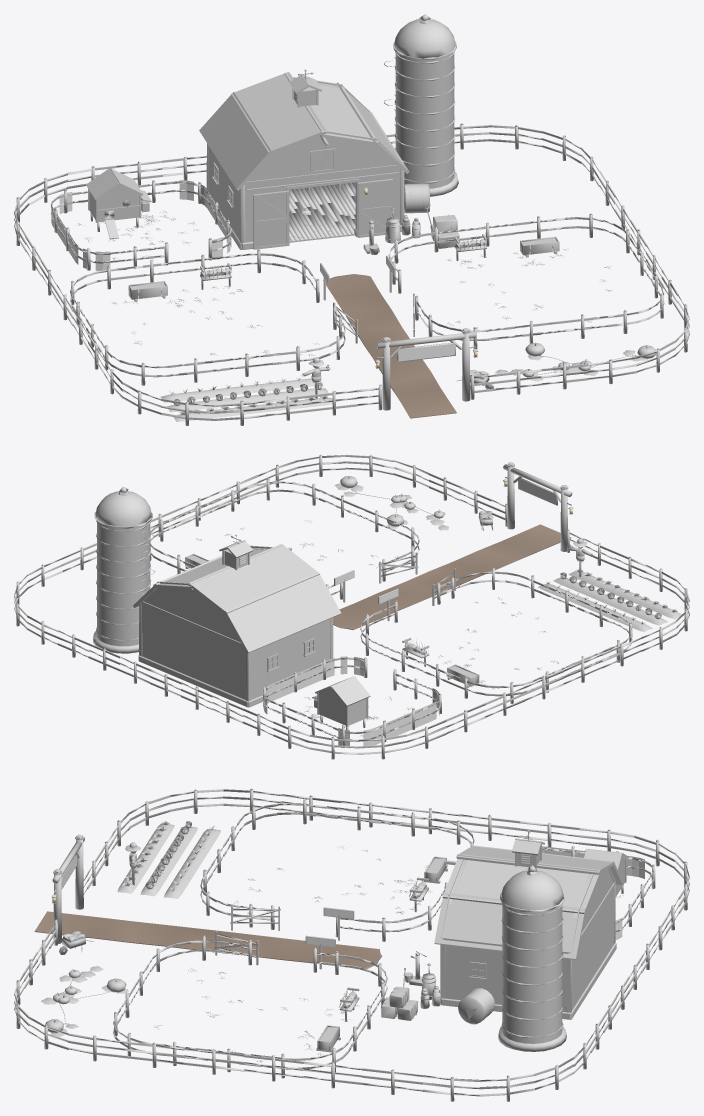
The model's file is zon_farm_lite.glb.
3 views of the same model, one above another, from view 1: azimuth 30°, elevation 25°; view 2: azimuth 150°, elevation 25°; view 3: azimuth 270°, elevation 25° (orthographic). The views are drawn at different scales.
Visible parts, largest first — view 1: SM_zon_farm_lite_kit_farm_x0_zm1, SM_zon_farm_lite_paths_stone_vc_x0_zm1, SM_zon_farm_lite_kit_farm_clip_x0_zm1, SCREEN_bld_farm_gate_sign_front__0; view 2: SM_zon_farm_lite_kit_farm_x0_zm1, SM_zon_farm_lite_paths_stone_vc_x0_zm1, SM_zon_farm_lite_kit_farm_clip_x0_zm1; view 3: SM_zon_farm_lite_kit_farm_x0_zm1, SM_zon_farm_lite_paths_stone_vc_x0_zm1, SM_zon_farm_lite_kit_farm_clip_x0_zm1.
Part boxes in pixels (x1,y1,x2,y2): SM_zon_farm_lite_kit_farm_x0_zm1: (14,14,689,425); SM_zon_farm_lite_paths_stone_vc_x0_zm1: (323,274,456,418); SM_zon_farm_lite_kit_farm_clip_x0_zm1: (51,180,231,270); SCREEN_bld_farm_gate_sign_front__0: (398,343,455,361); SM_zon_farm_lite_kit_farm_x0_zm1: (14,454,689,759); SM_zon_farm_lite_paths_stone_vc_x0_zm1: (333,524,571,629); SM_zon_farm_lite_kit_farm_clip_x0_zm1: (263,656,439,745); SM_zon_farm_lite_kit_farm_x0_zm1: (14,788,689,1101); SM_zon_farm_lite_paths_stone_vc_x0_zm1: (34,911,382,968); SM_zon_farm_lite_kit_farm_clip_x0_zm1: (542,846,653,939).
Bounding box in the file's own units: 28.69 × 8.11 × 28.12.
